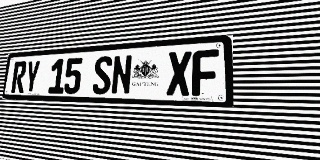1: (48, 58, 66, 94)
5: (64, 57, 83, 94)
F: (192, 49, 219, 96)
N: (111, 54, 133, 95)
R: (11, 61, 27, 93)
S: (92, 56, 113, 94)
X: (166, 51, 192, 96)
Y: (24, 60, 41, 93)
